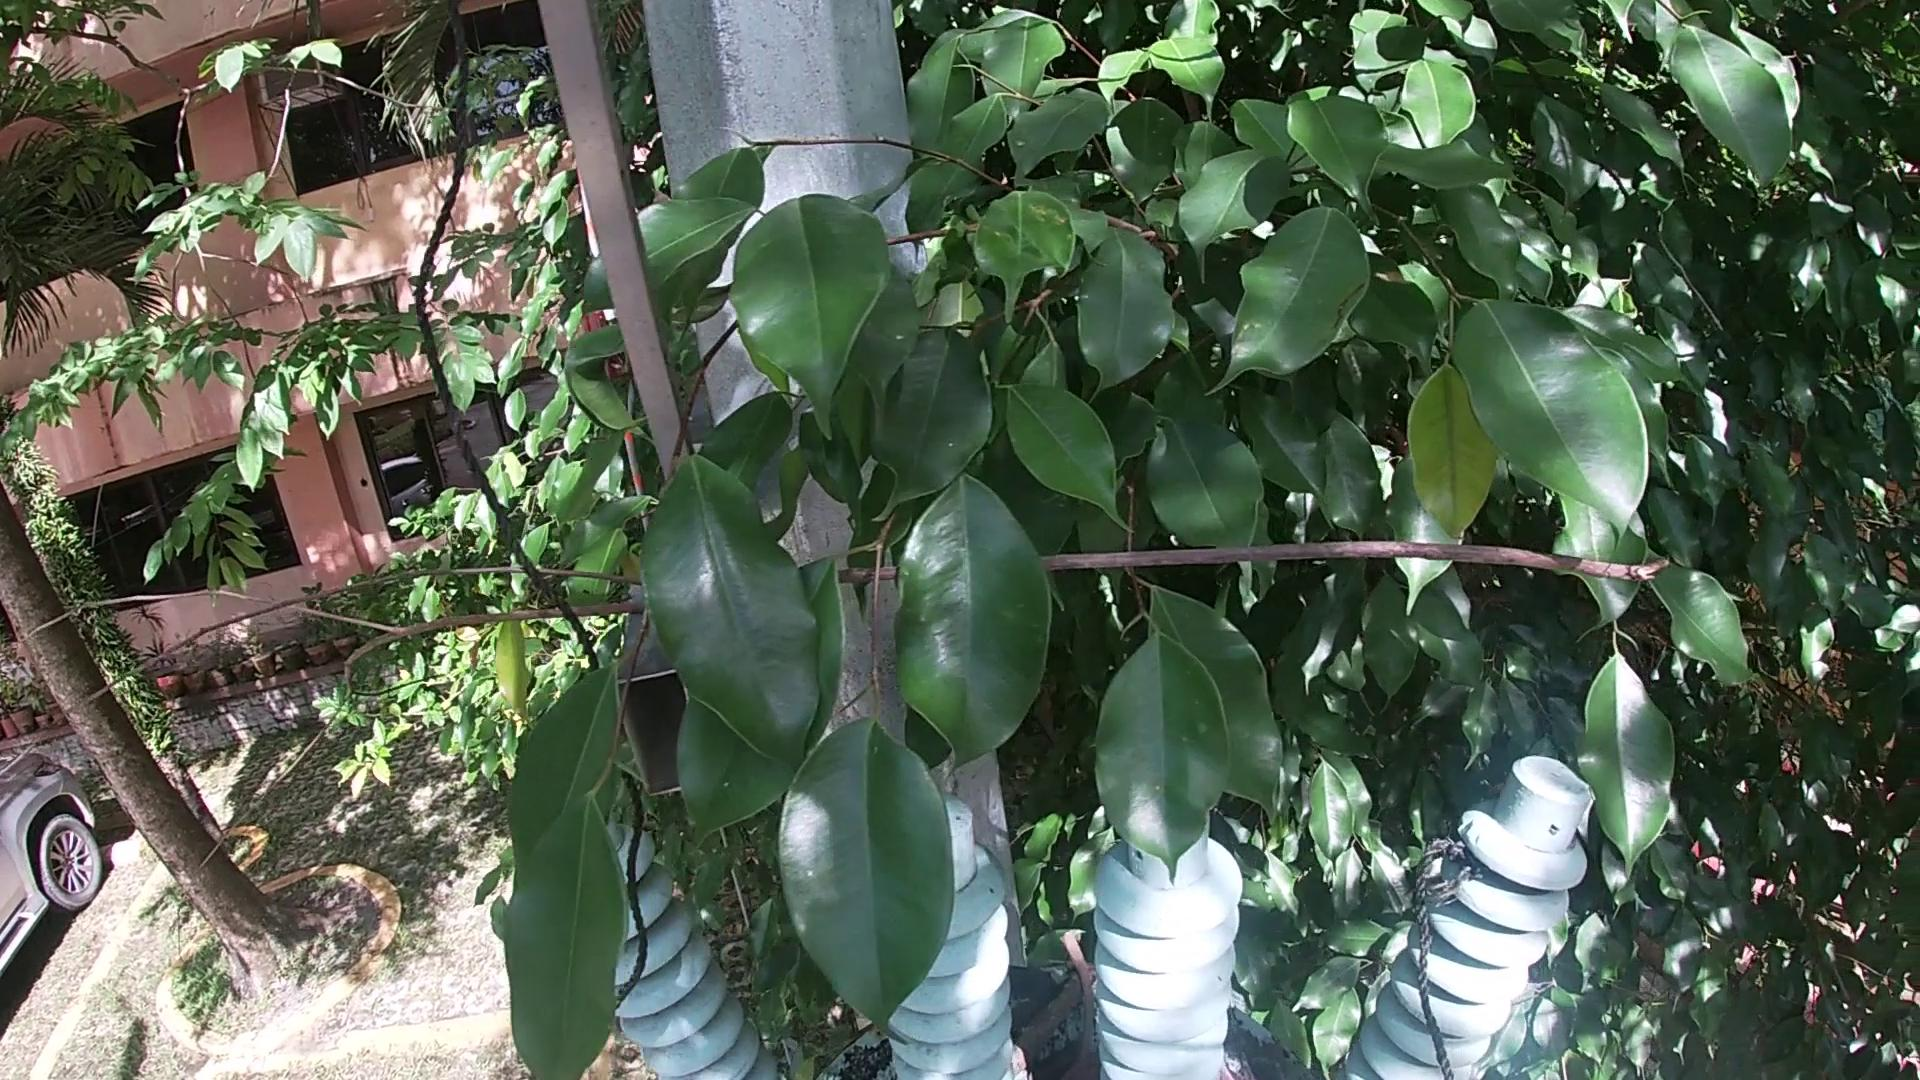tree branch: (3, 516, 1695, 796), (1023, 949, 1105, 1044), (1052, 923, 1095, 1067)
